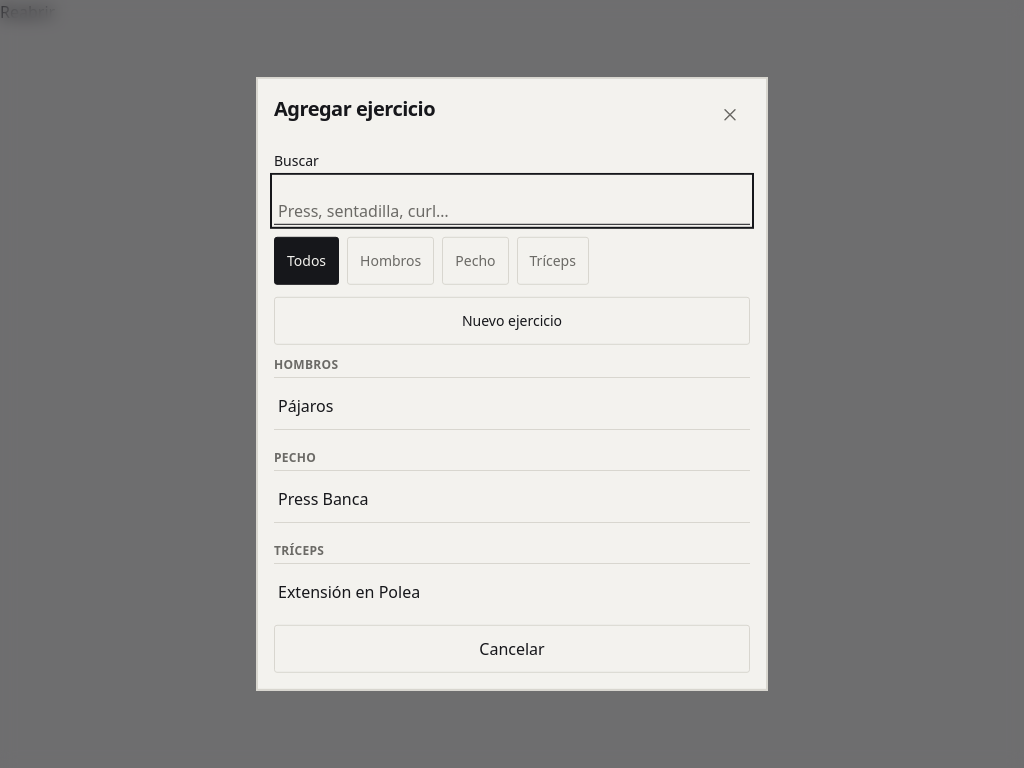
inventing an exercise the catalogue does not have › keeps the form out of the way until it is asked for
The width and height of the screenshot is (1024, 768).
Expected: the field labelled "Nombre del ejercicio" is not shown
Click the button "Nuevo ejercicio". click: (512, 321)
box: left=274, top=297, right=750, bottom=345
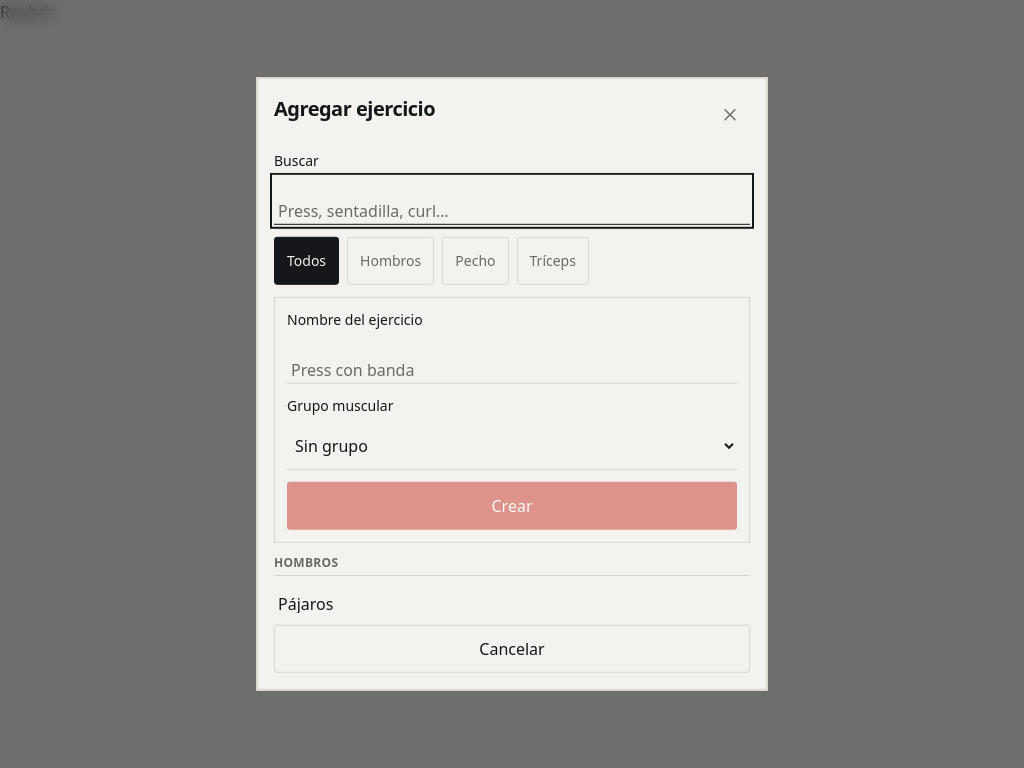
Now the field labelled "Nombre del ejercicio" is shown, box left=287, top=336, right=737, bottom=384
